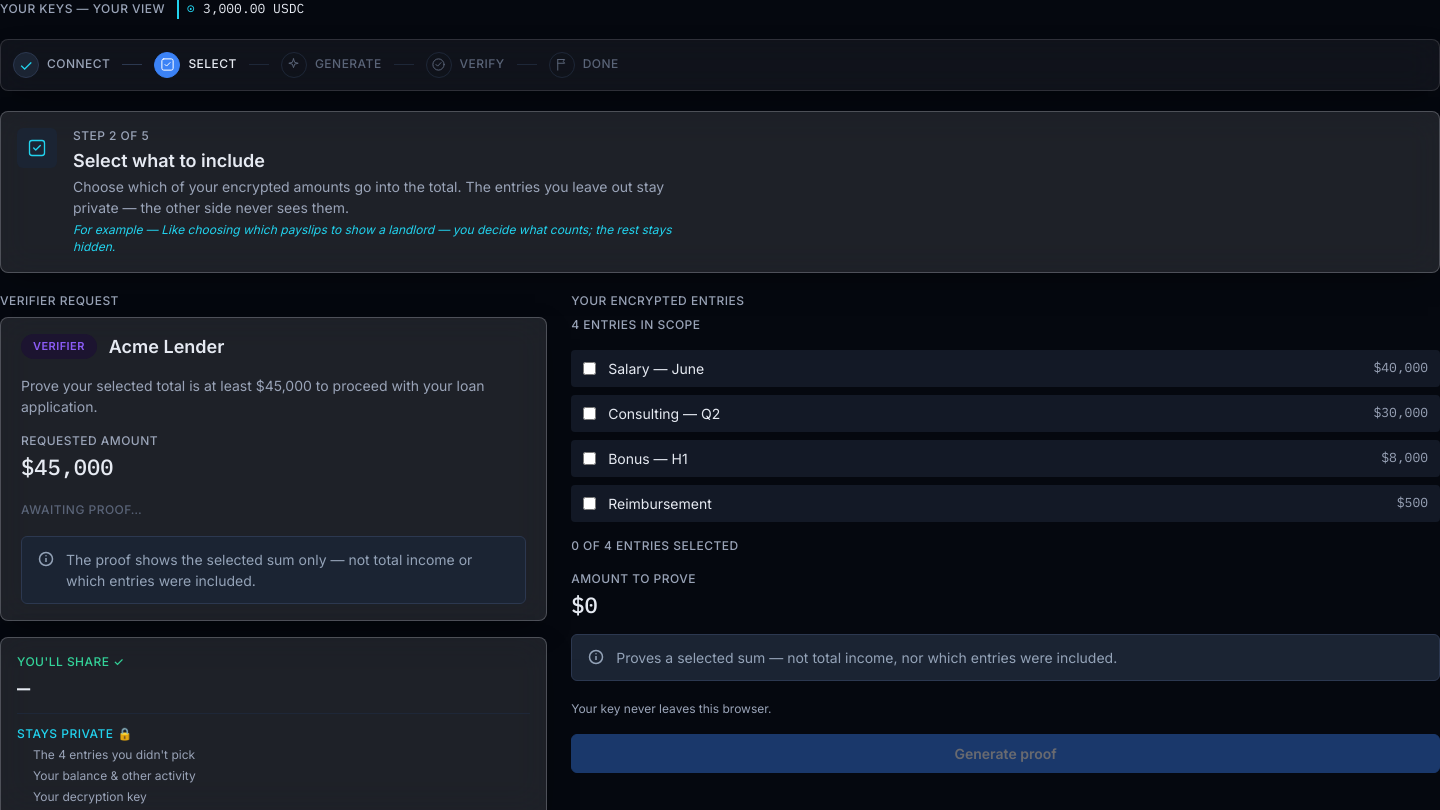
HolderLens — guided flow (proof → verify → done) › select Salary + Bonus (48,000), generate, verify, reach Done
Click the checkbox labelled "Salary — June $40,000" at [590, 369], box left=583, top=362, right=596, bottom=375
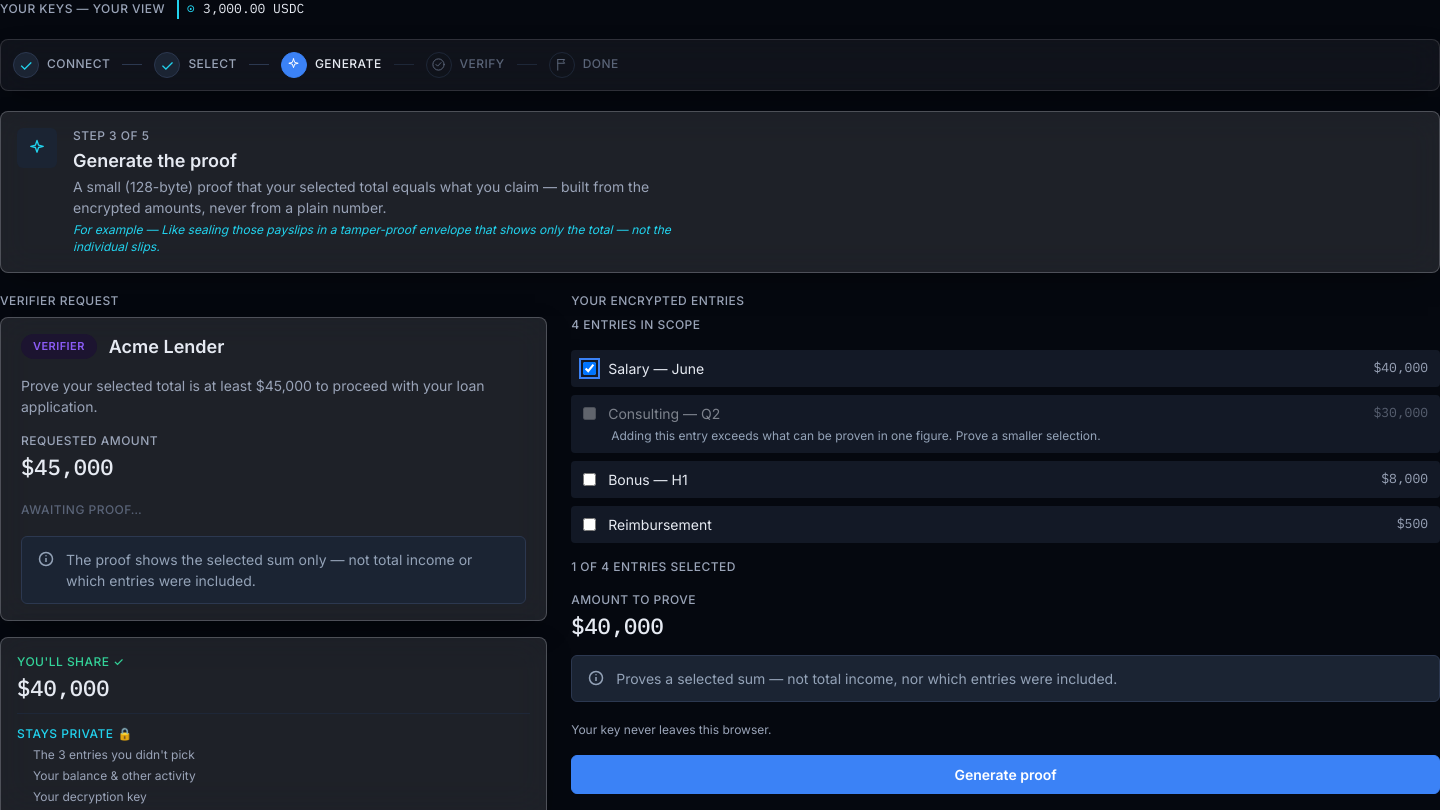
Click the checkbox labelled "Bonus — H1 $8,000" at [590, 480], box left=583, top=473, right=596, bottom=486
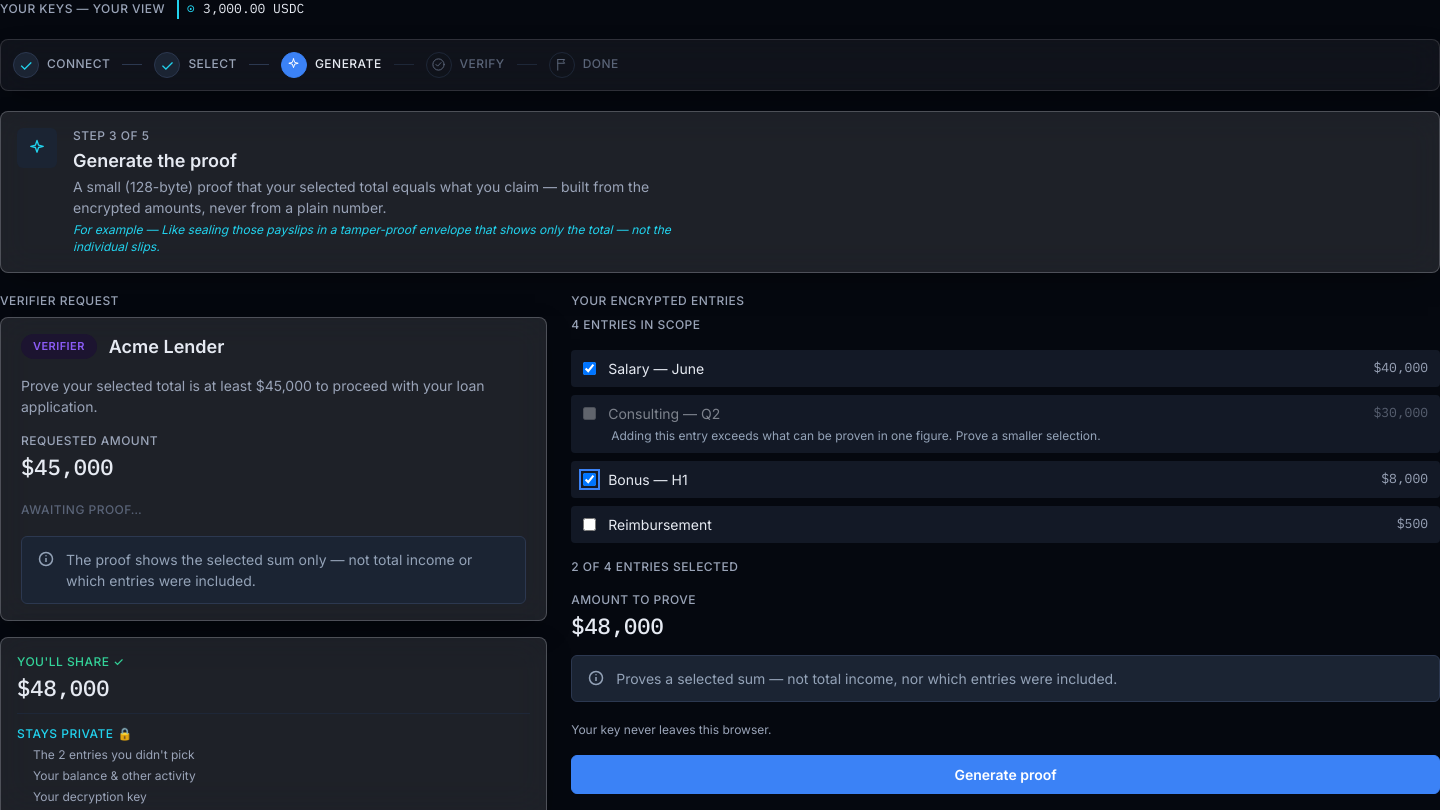
Check: the text with test id "selected-total" shows "48,000", box left=571, top=611, right=664, bottom=640
Click the button "Generate proof" at [1006, 774], box left=571, top=755, right=1439, bottom=794
(page scrolled)
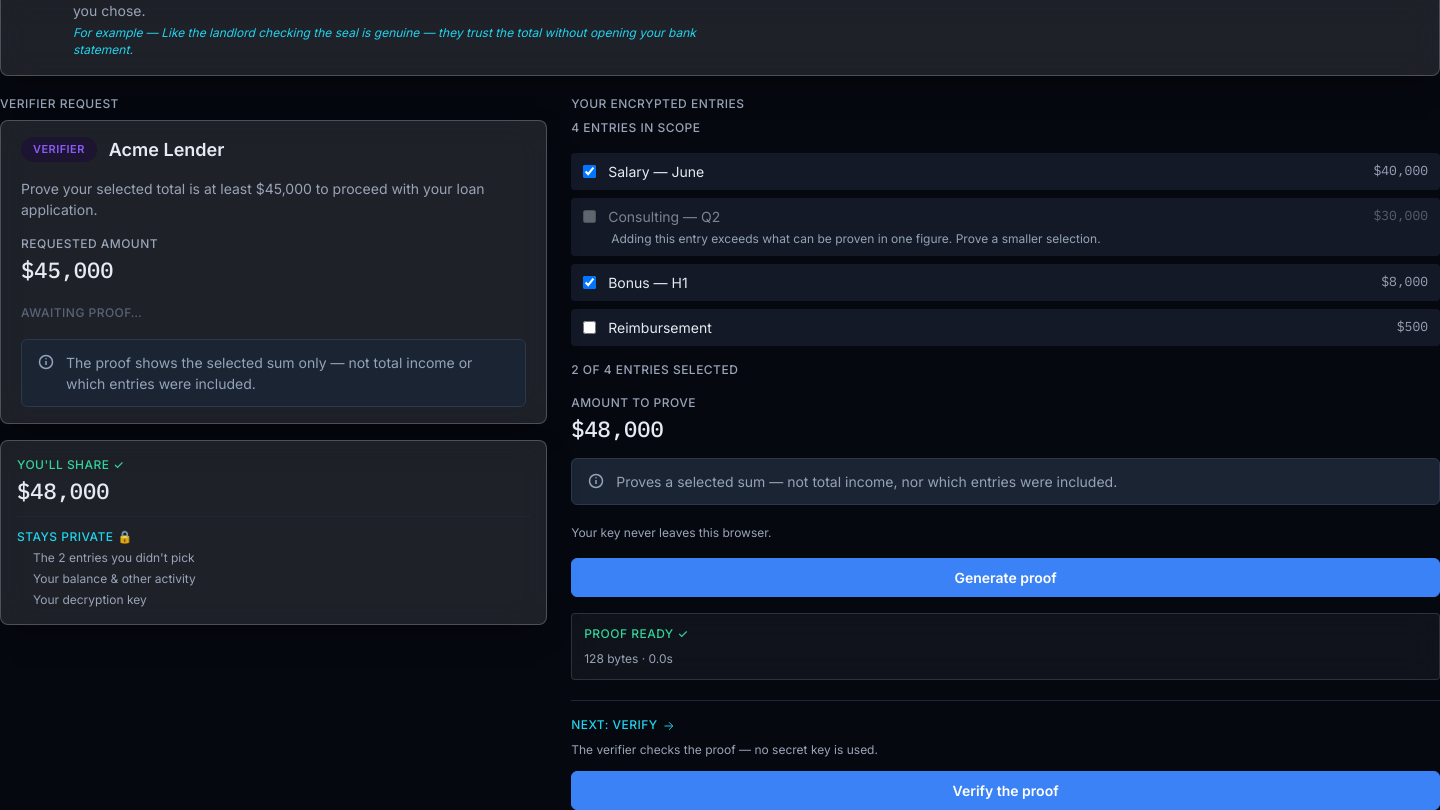
Check: the element with test id "proof-verify-step" is shown, box left=571, top=742, right=1439, bottom=809
Click the button "Verify the proof" at [1006, 790], box left=571, top=771, right=1439, bottom=809
(page scrolled)
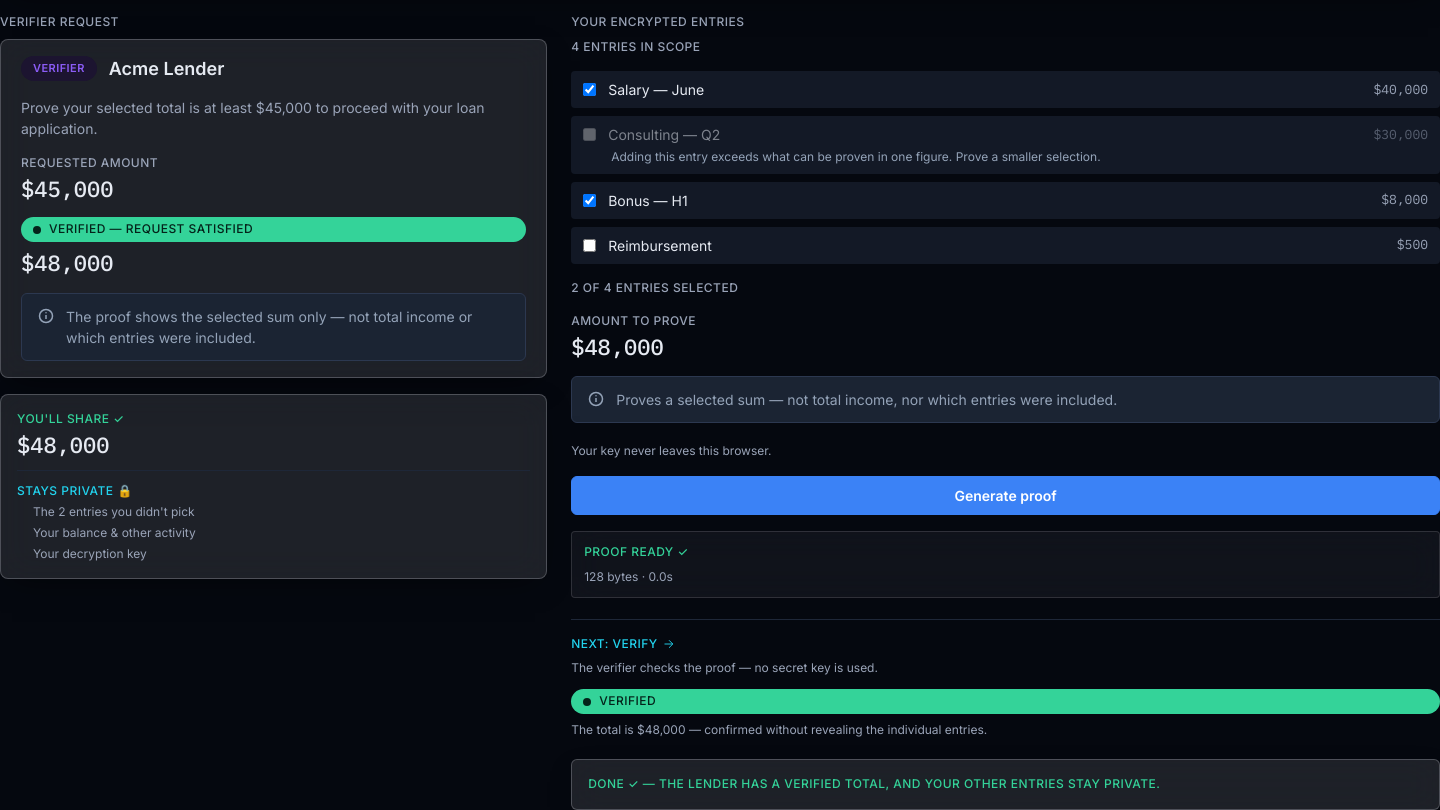
Check: the element with test id "verify-result-verified" is shown, box left=571, top=689, right=1439, bottom=739
Check: the element with test id "flow-done" is shown, box left=571, top=759, right=1439, bottom=809
